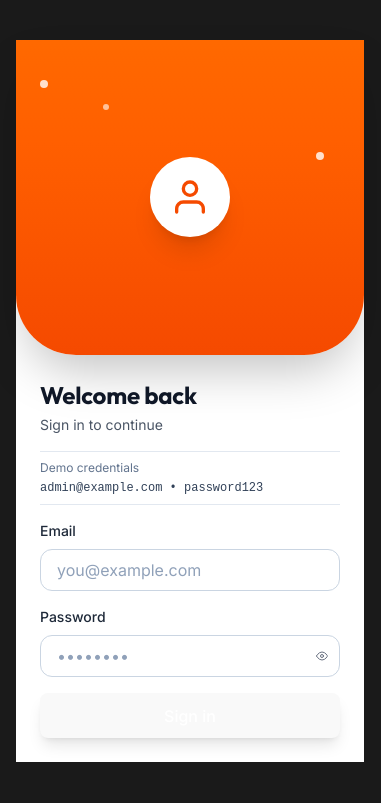
Test: Login Component › shows validation error for invalid email format
This screenshot has width=381, height=803.
In the field labelled "Email": (190, 570) x1=40 y1=549 x2=340 y2=591, type "invalid-email"
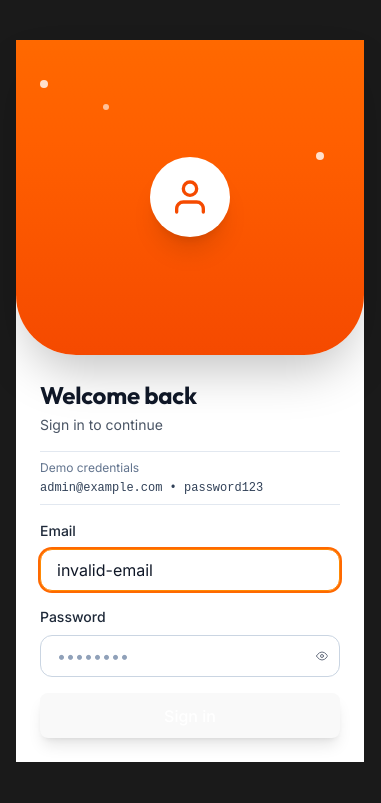
Click the button "Sign in": (190, 716) x1=40 y1=693 x2=340 y2=738
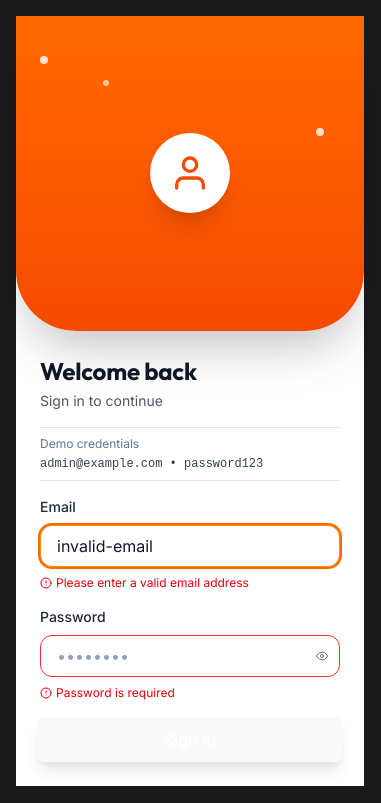
Check: the text "Please enter a valid email address" is shown, box x1=56 y1=575 x2=249 y2=591
